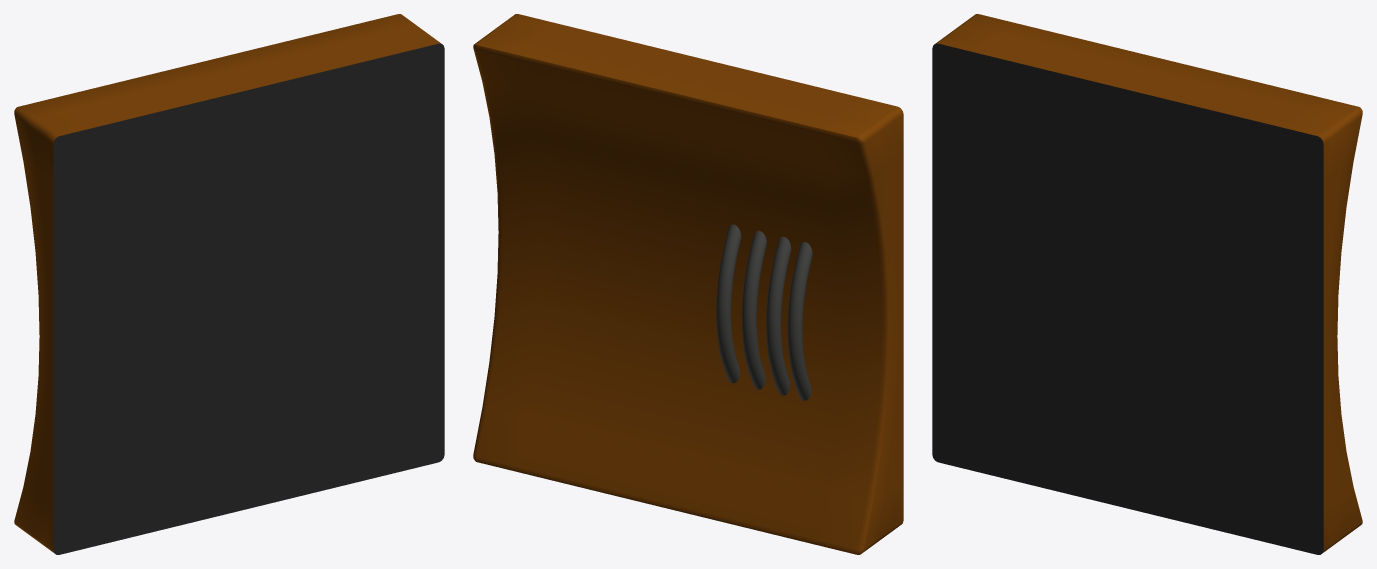
Rendered from Боковая панель лево.fbx.
3 views of the same model, side by side, from view 1: azimuth 30°, elevation 25°; view 2: azimuth 150°, elevation 25°; view 3: azimuth 330°, elevation 25° (orthographic).
Visible parts, largest first — view 1: Cube_4, Cube_2; view 2: Cube_2, Torus_6, Torus_7, Torus_4, Torus_5; view 3: Cube_4, Cube_2.
Part boxes in pixels (bbox=[...]): Cube_4: bbox=[53, 43, 444, 554]; Cube_2: bbox=[14, 14, 440, 552]; Cube_2: bbox=[473, 14, 903, 554]; Torus_6: bbox=[766, 236, 791, 395]; Torus_7: bbox=[787, 242, 812, 400]; Torus_4: bbox=[716, 224, 741, 383]; Torus_5: bbox=[741, 230, 766, 389]; Cube_4: bbox=[932, 43, 1323, 554]; Cube_2: bbox=[936, 14, 1362, 552].
Size of the model in its own units: 124 by 127 by 22.85.
